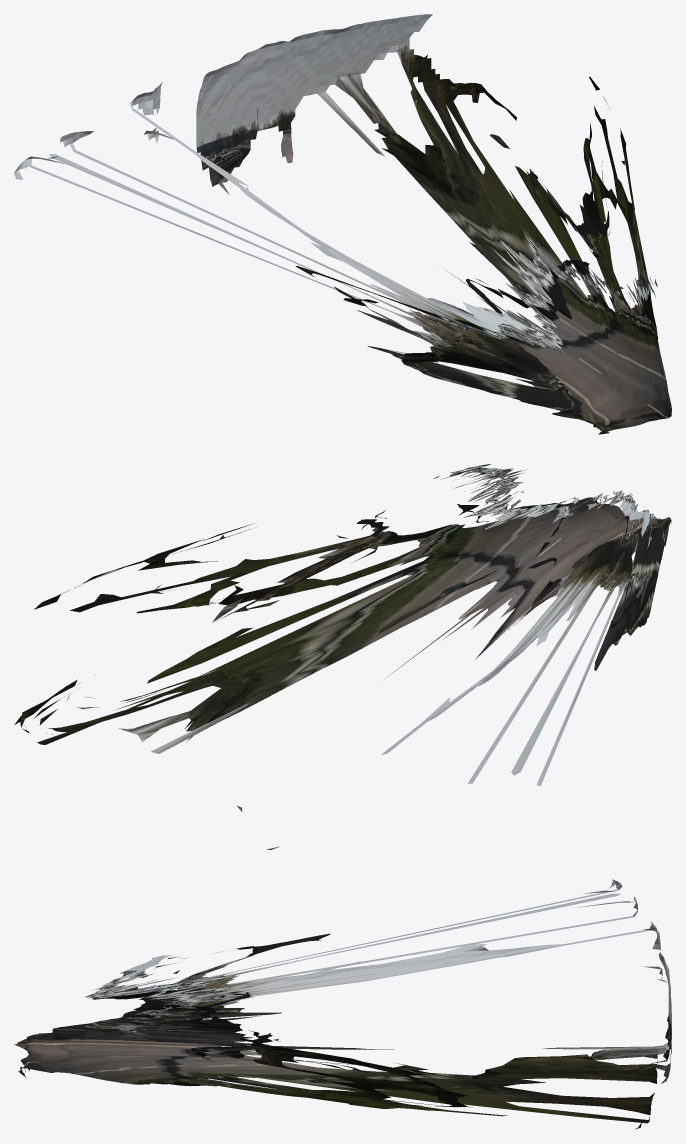
The picture shows the model from 3 angles, top to bottom: view 1: azimuth 30°, elevation 25°; view 2: azimuth 150°, elevation 25°; view 3: azimuth 270°, elevation 25°; orthographic projection. The views are drawn at different scales.
Parts seen in each view (by area): view 1: defaultobject; view 2: defaultobject; view 3: defaultobject.
Part boxes in pixels (x1=…): defaultobject: x1=14, y1=14, x2=671, y2=434; defaultobject: x1=14, y1=464, x2=671, y2=850; defaultobject: x1=14, y1=879, x2=671, y2=1129.
Bounding box in the file's own units: 35.89 × 8.82 × 44.8.
1 material, 1 textured.
